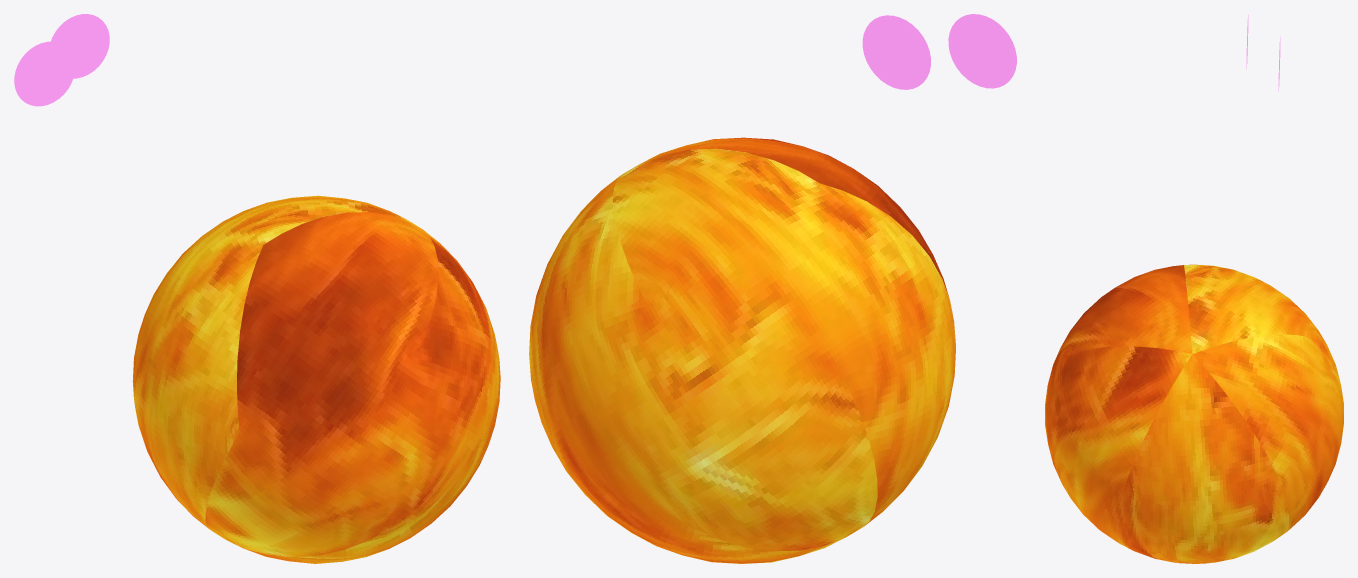
The model's file is fireplace.gltf.
The picture shows the model from 3 angles, left to right: view 1: azimuth 30°, elevation 25°; view 2: azimuth 150°, elevation 25°; view 3: azimuth 270°, elevation 25°; orthographic projection. The views are drawn at different scales.
Visible parts, largest first — view 1: Icosphere, Circle, Circle.001; view 2: Icosphere, Circle.001, Circle; view 3: Icosphere.
Boxes of the visible parts, <box> form: Icosphere: <box>132,195,500,563</box>; Circle: <box>14,41,74,106</box>; Circle.001: <box>51,14,109,78</box>; Icosphere: <box>529,137,955,563</box>; Circle.001: <box>862,15,930,89</box>; Circle: <box>948,14,1016,88</box>; Icosphere: <box>1045,264,1343,563</box>.
Size of the model in its own units: 14.25 by 17.1 by 10.58.
Materials: 2 (1 with a texture image).
